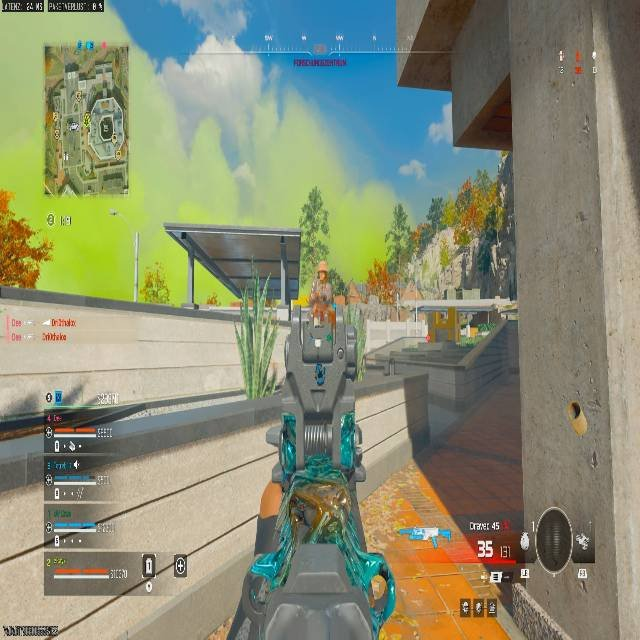player: (0, 215, 52, 293), (310, 261, 336, 326), (314, 361, 325, 385)
